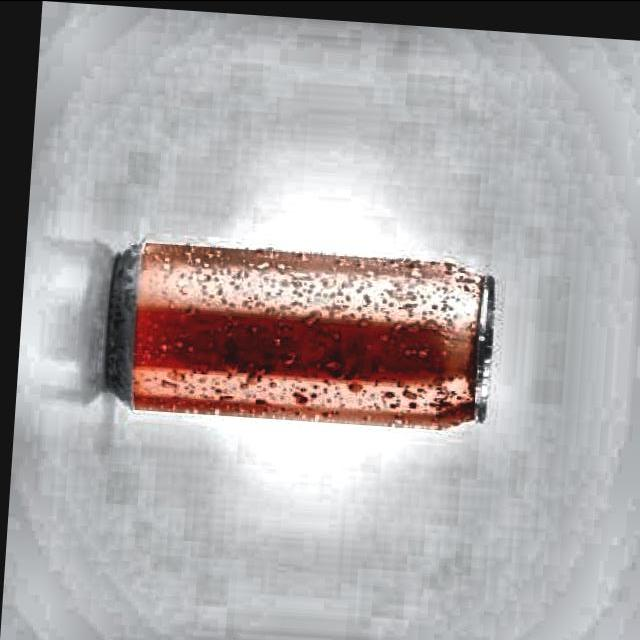litter: (91, 229, 502, 438)
